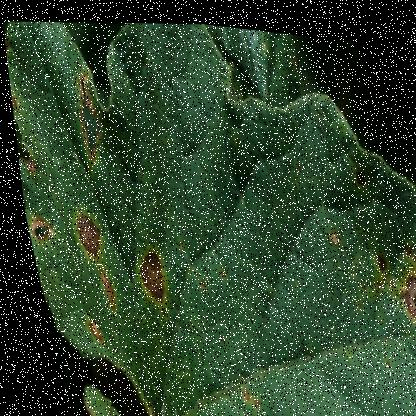AlternariaBrassicicola: (125, 232, 176, 323), (64, 199, 103, 263), (388, 239, 415, 321), (86, 256, 118, 321), (19, 205, 57, 252), (73, 305, 102, 345), (362, 237, 386, 272), (227, 403, 262, 415)
